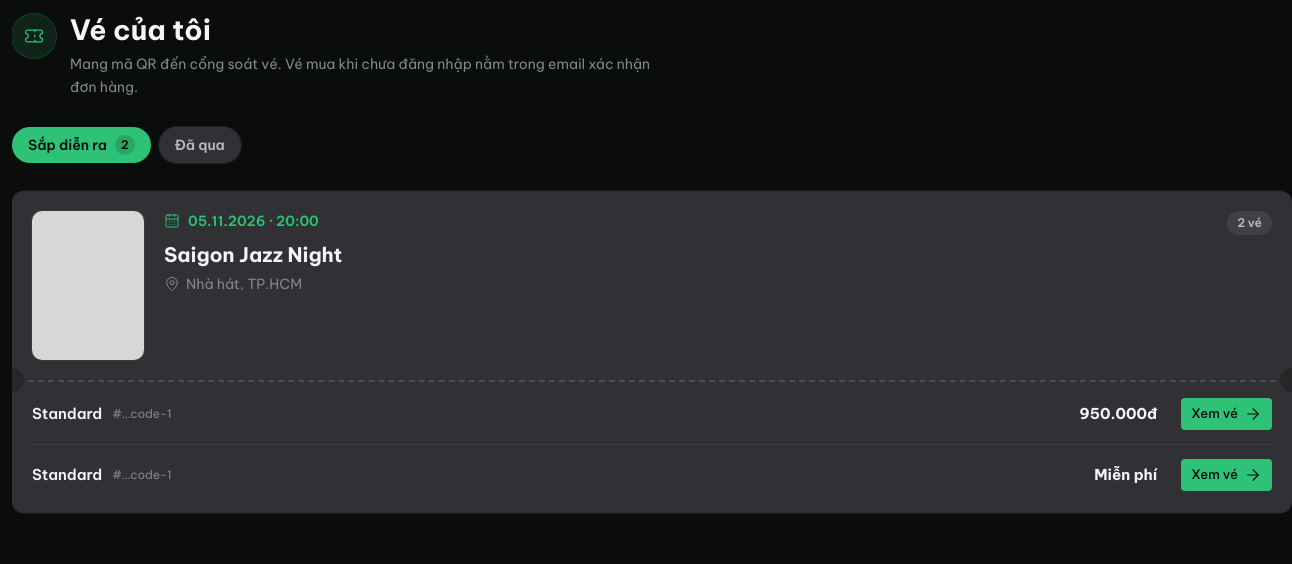
Test: MyTicketsPage › chỉ có tab Sắp diễn ra / Đã qua; đổi tab ghi scope lên URL và hiện trạng thái rỗng có hành động
Click the tab "Đã qua" at (200, 144), box [159,126,241,162]
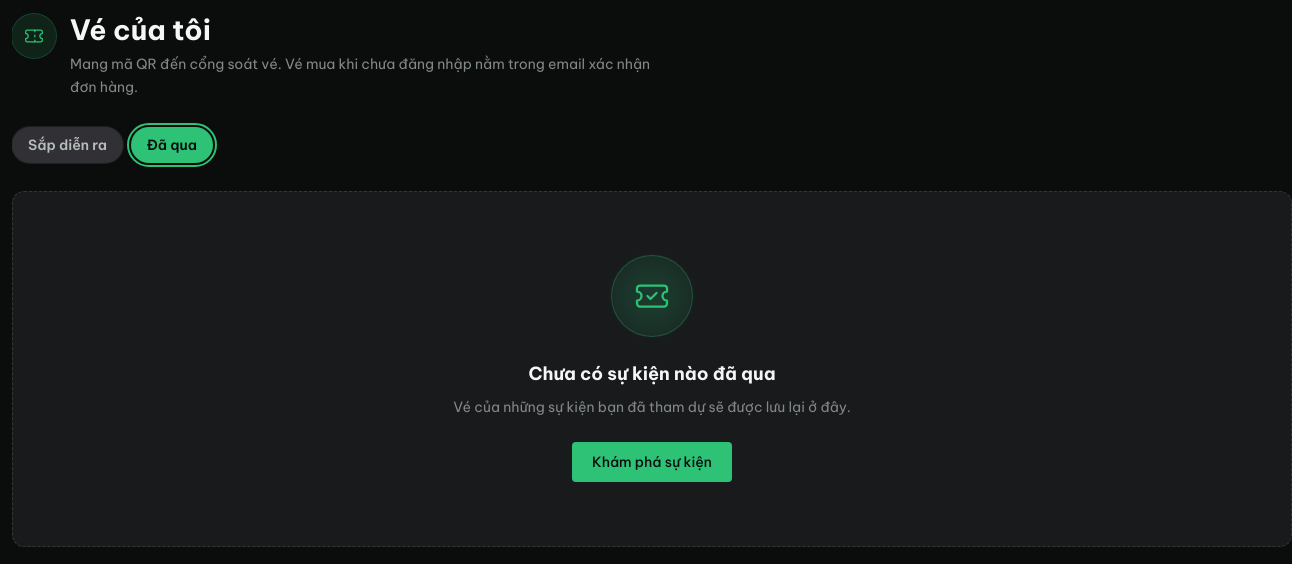
Check: the text "Chưa có sự kiện nào đã qua" is shown, box [528,360,776,388]
